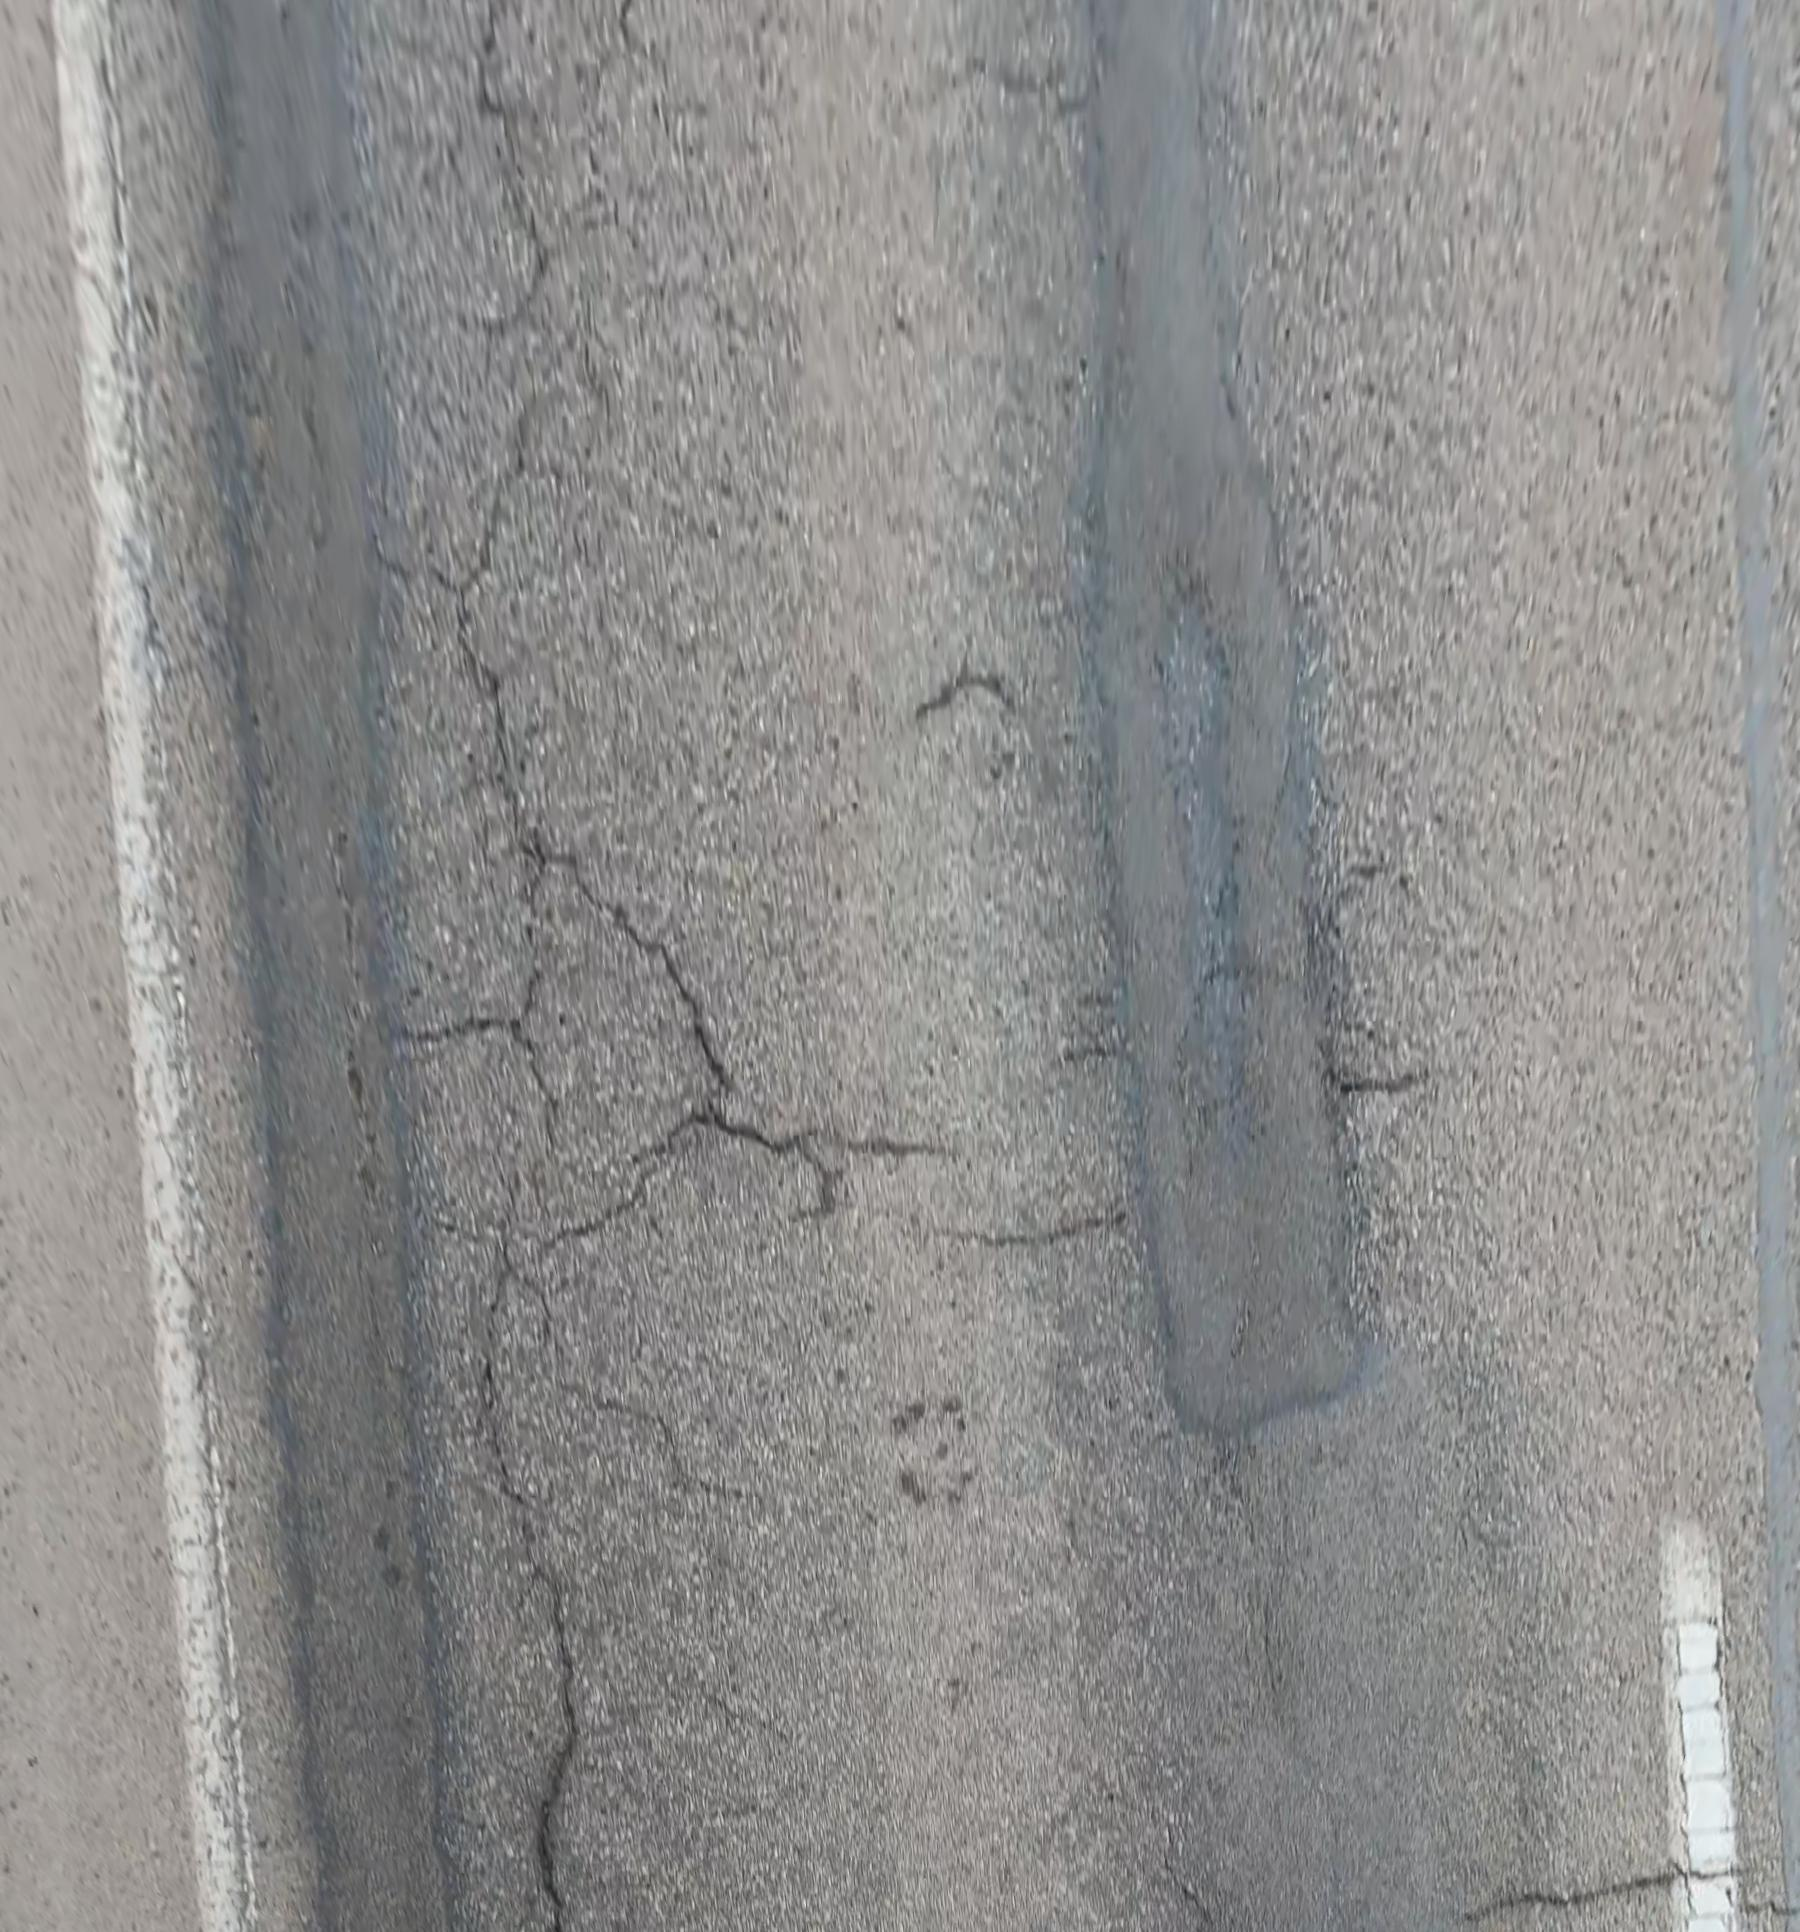pothole_patch_good: (188, 0, 452, 1932), (1089, 0, 1362, 1436)
